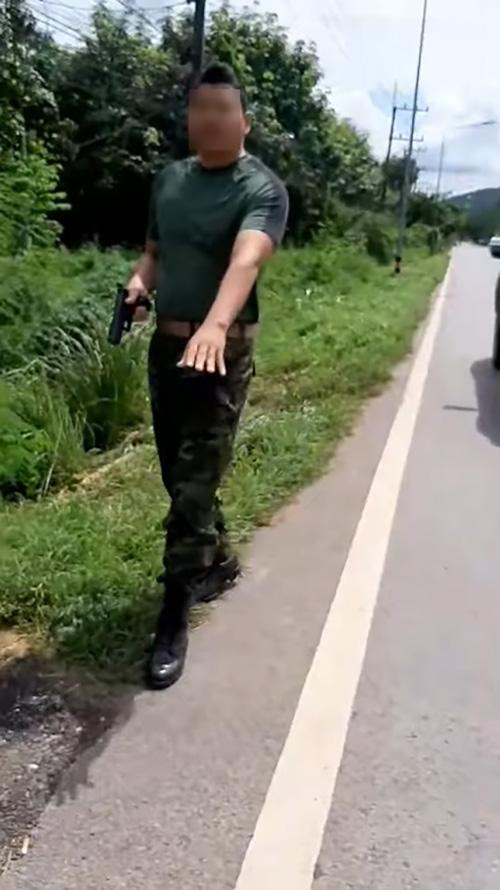criminal: (102, 60, 290, 694)
weapon: (102, 278, 156, 352)
